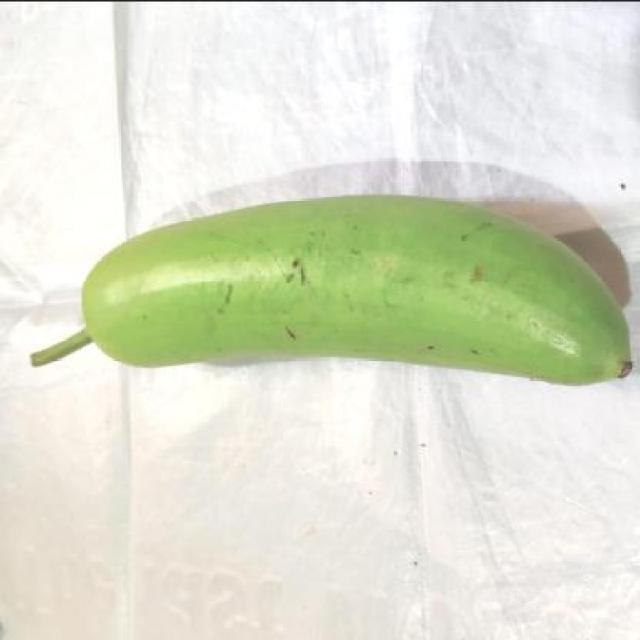Calabash: (37, 190, 634, 382)
